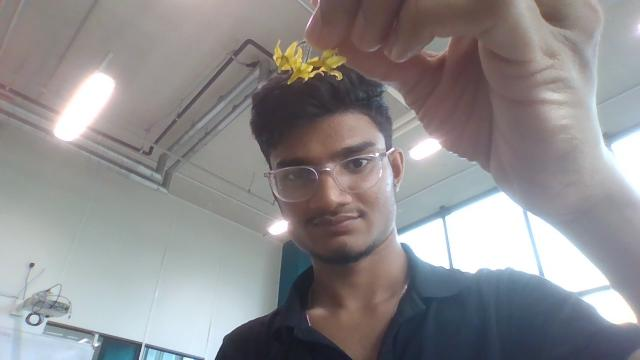Anthesis: (273, 38, 307, 77), (316, 48, 347, 80), (288, 59, 318, 85), (303, 55, 324, 71), (273, 40, 284, 66), (306, 68, 328, 80)
